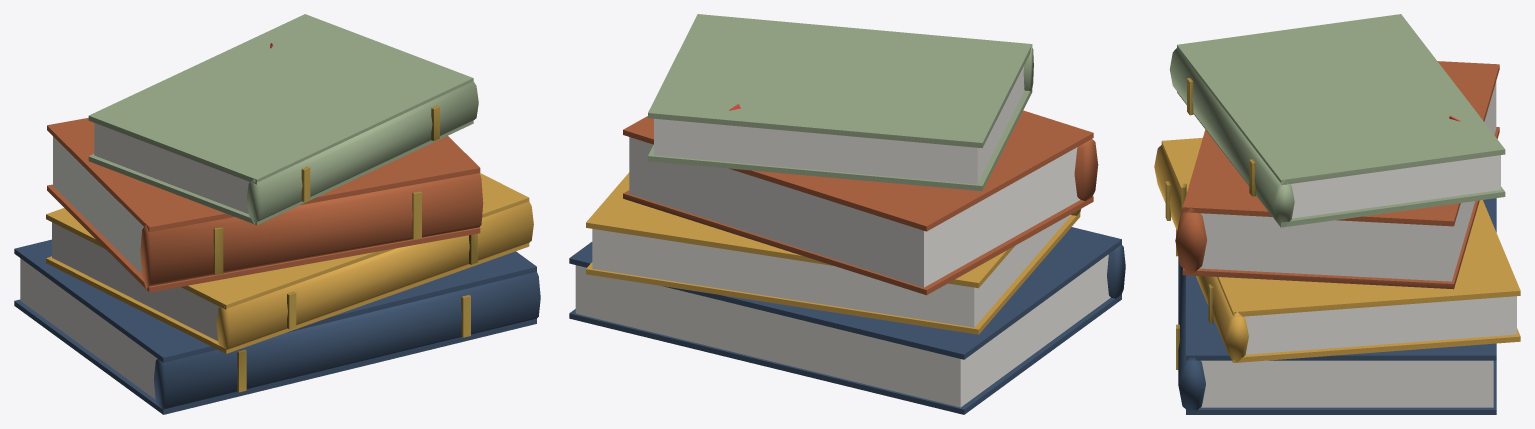
Rendered from bookStack.glb.
The picture shows the model from 3 angles, left to right: view 1: azimuth 30°, elevation 25°; view 2: azimuth 150°, elevation 25°; view 3: azimuth 270°, elevation 25°; orthographic projection. The views are drawn at different scales.
Visible parts, largest first — view 1: bookStack; view 2: bookStack; view 3: bookStack.
Boxes of the visible parts, <box> form: bookStack: <box>14,14,540,414</box>; bookStack: <box>569,14,1125,414</box>; bookStack: <box>1154,14,1520,414</box>.
Bounding box in the file's own units: 0.2502 × 0.1352 × 0.1958.
